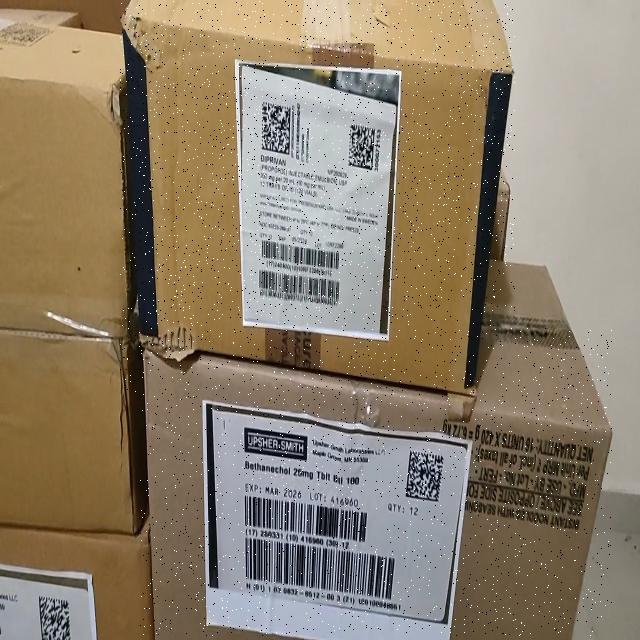BoxFace: (120, 1, 515, 395), (140, 326, 612, 636)
